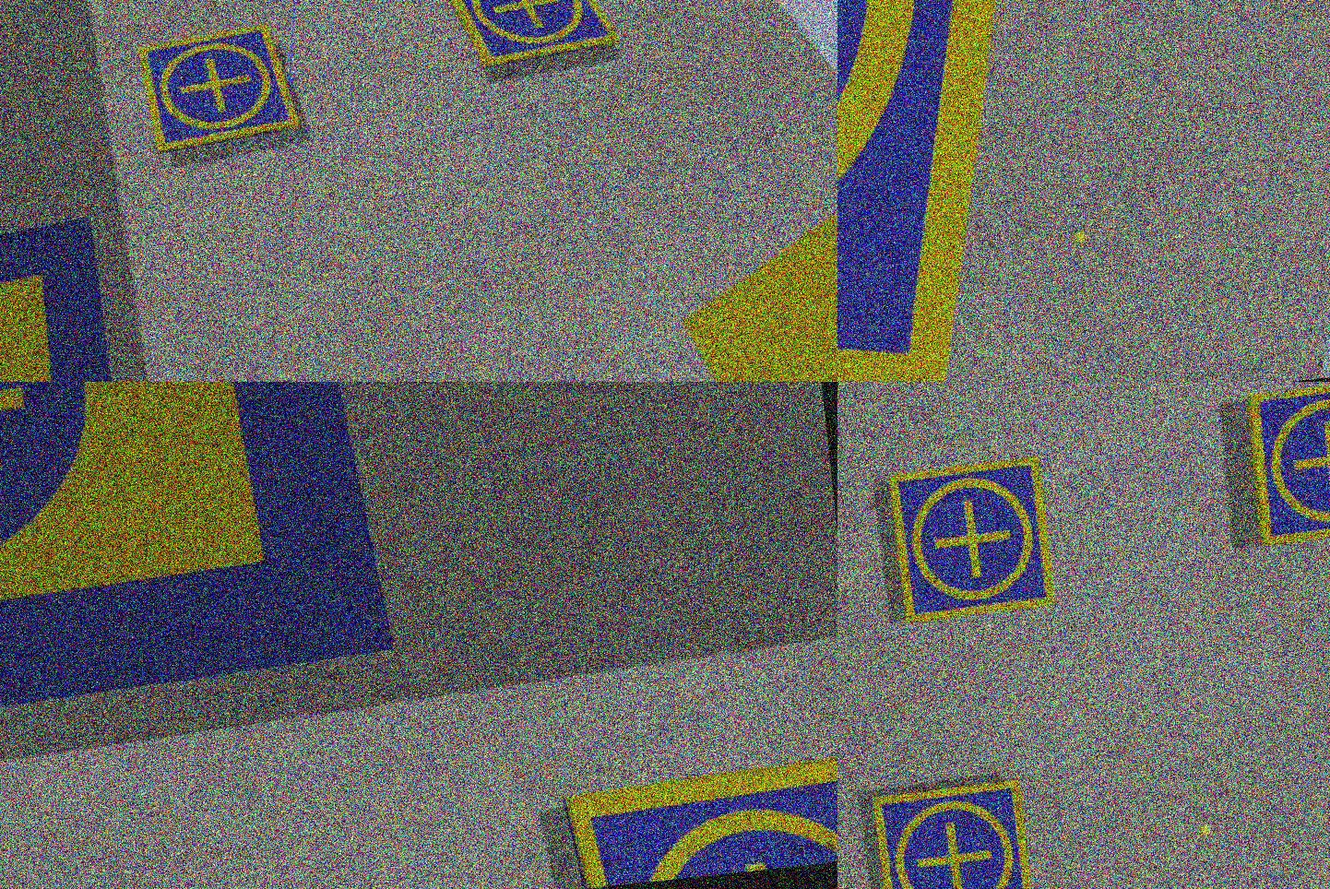large_base: (1, 382, 403, 776)
small_base: (838, 1, 1146, 382), (562, 757, 838, 889), (885, 454, 1059, 627), (137, 22, 303, 156), (871, 778, 1036, 889), (1243, 382, 1330, 545), (435, 1, 624, 74)
